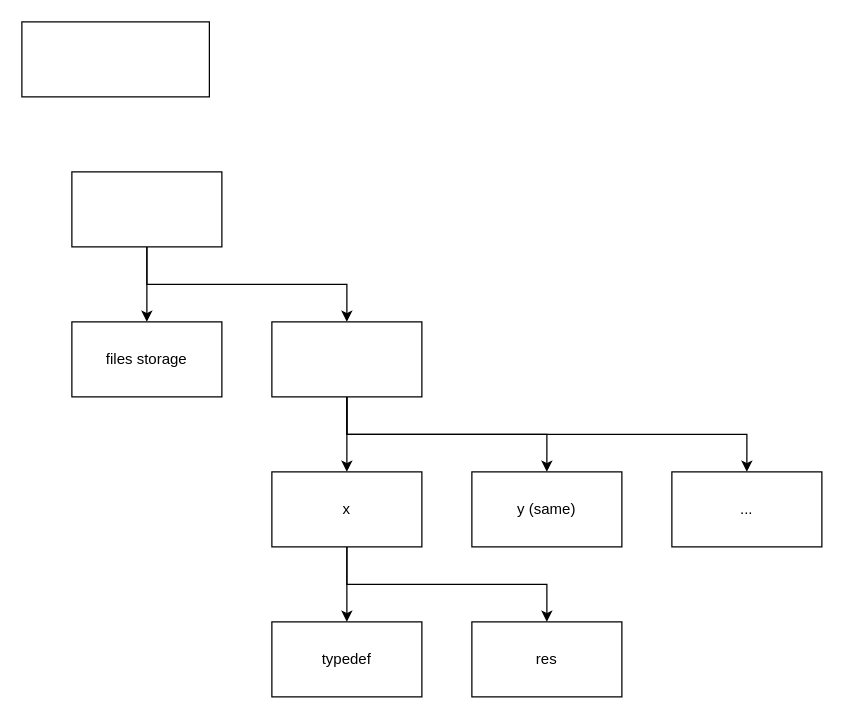
Some shapes in this 844 by 719 pixel diagram are drawn without their labels. Each missing label, with the centre of its shape:
apollo: (346,359)
design logic (sufisant pour une demo viable): (115,59)
express: (146,209)
